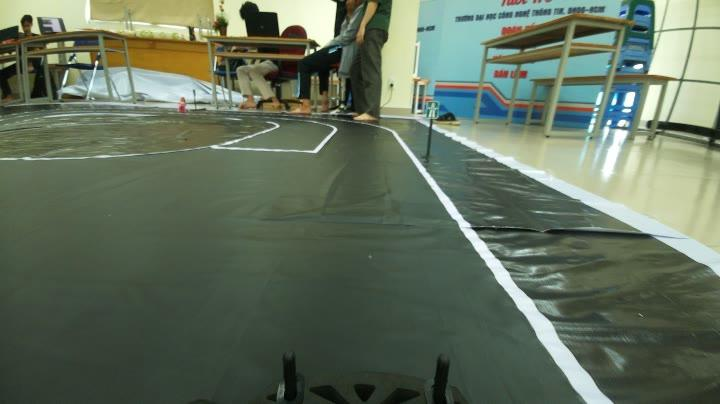highway_entry: (422, 96, 443, 127)
